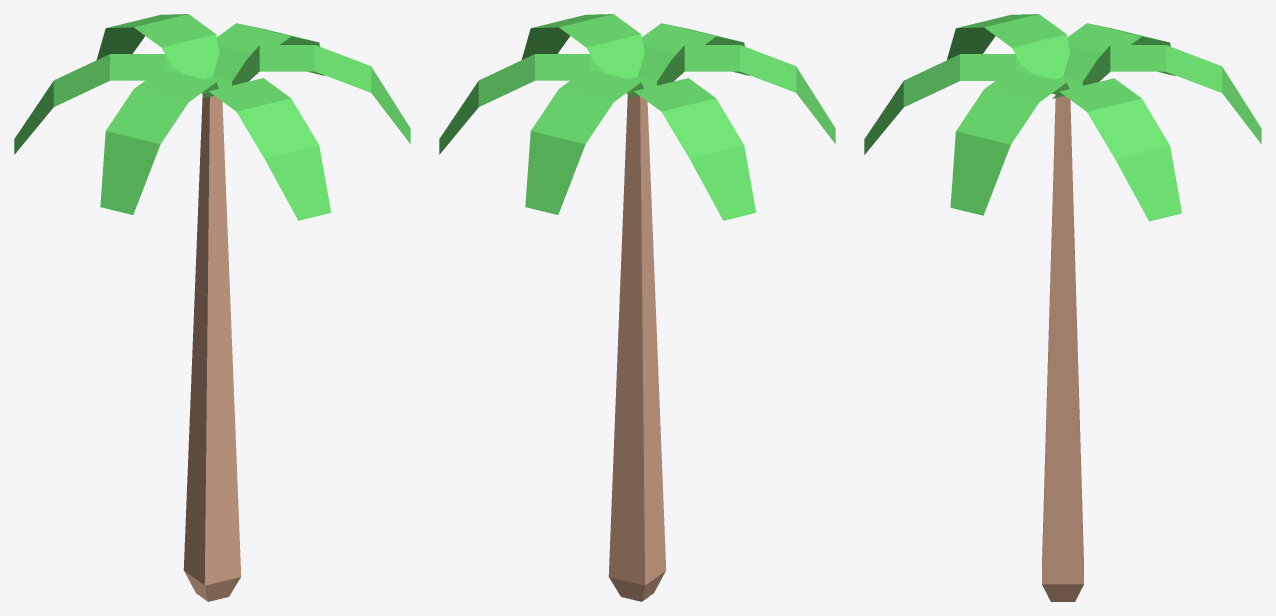
The model's file is n_tree_palm.glb.
3 renders of one model, left to right at view 1: azimuth 30°, elevation 25°; view 2: azimuth 150°, elevation 25°; view 3: azimuth 270°, elevation 25°, orthographic.
Visible parts, largest first — view 1: tree_palm; view 2: tree_palm; view 3: tree_palm.
Boxes of the visible parts, box(x1,y1,x2,y2) form: tree_palm: box(14, 14, 410, 601); tree_palm: box(439, 14, 835, 601); tree_palm: box(864, 14, 1261, 601).
Bounding box in the file's own units: 3.71 × 6 × 4.01.
